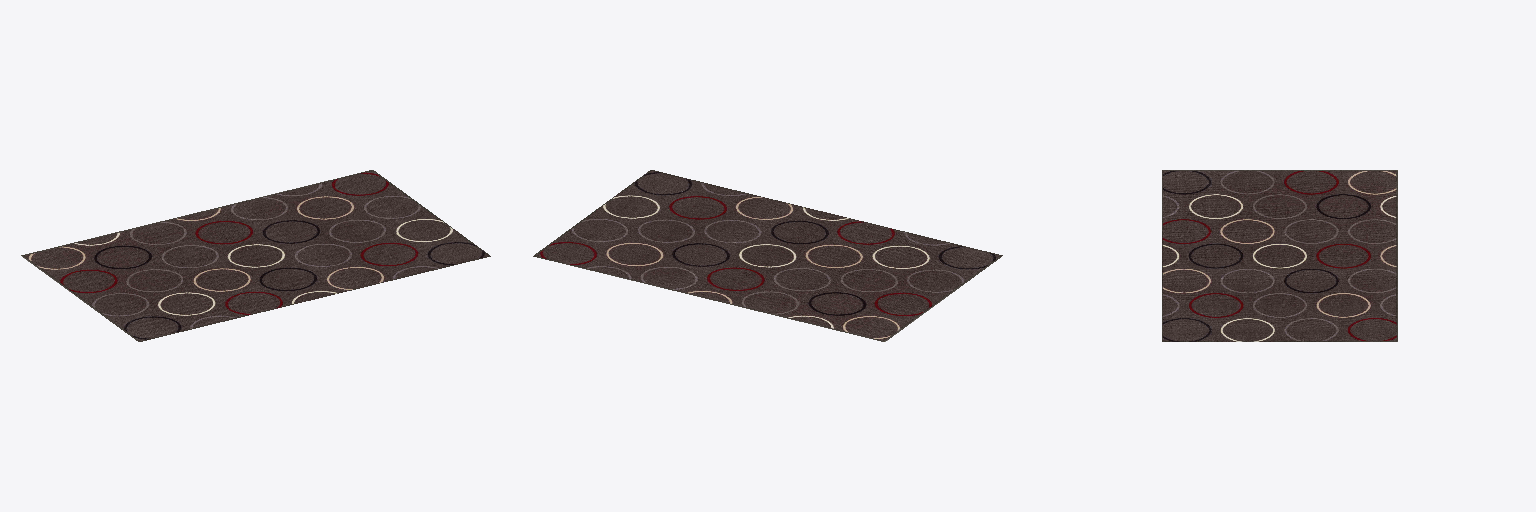
3 views of the same model, side by side, from view 1: azimuth 30°, elevation 25°; view 2: azimuth 150°, elevation 25°; view 3: azimuth 270°, elevation 25° (orthographic).
Parts seen in each view (by area): view 1: body; view 2: body; view 3: body.
Part boxes in pixels (x1,y1,x2,y2): body: (21, 170, 490, 341); body: (533, 170, 1002, 341); body: (1162, 170, 1397, 341).
Size of the model in its own units: 47.64 by 0 by 27.73.
Materials: 1 (1 with a texture image).